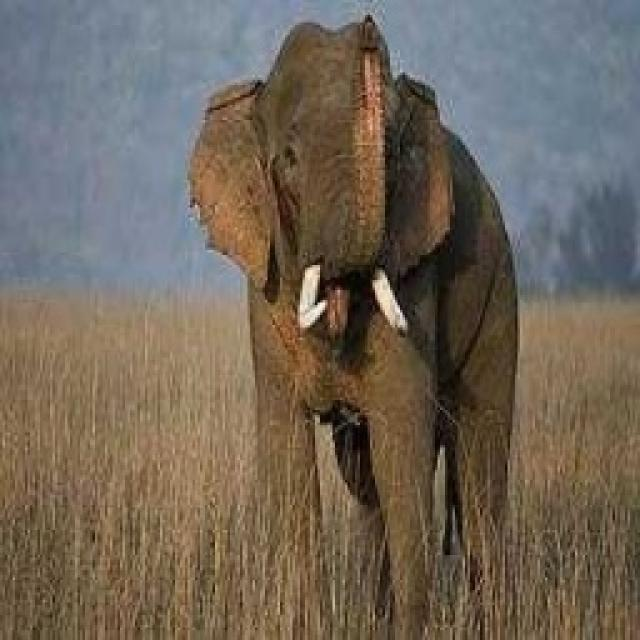not_pig: (185, 12, 520, 630)
